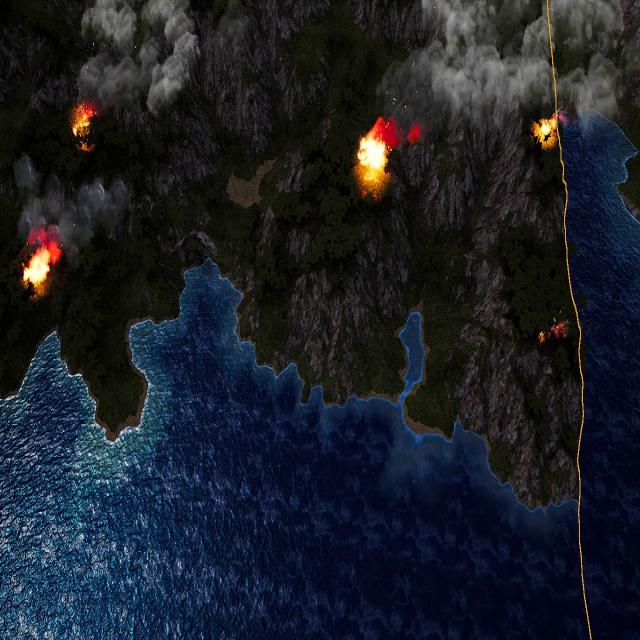fire: (355, 127, 389, 183), (23, 242, 58, 288), (533, 320, 572, 347), (70, 100, 96, 140), (531, 114, 560, 146)
smoke: (378, 2, 638, 148), (76, 2, 202, 116), (14, 153, 130, 260)
